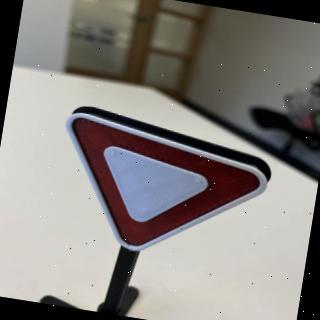sign_yield: (46, 104, 277, 277)
